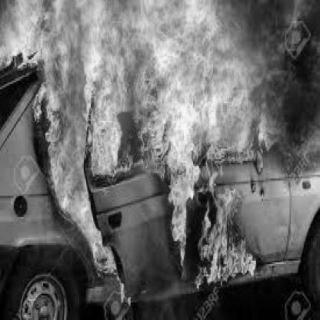Fire: (0, 0, 318, 302)
